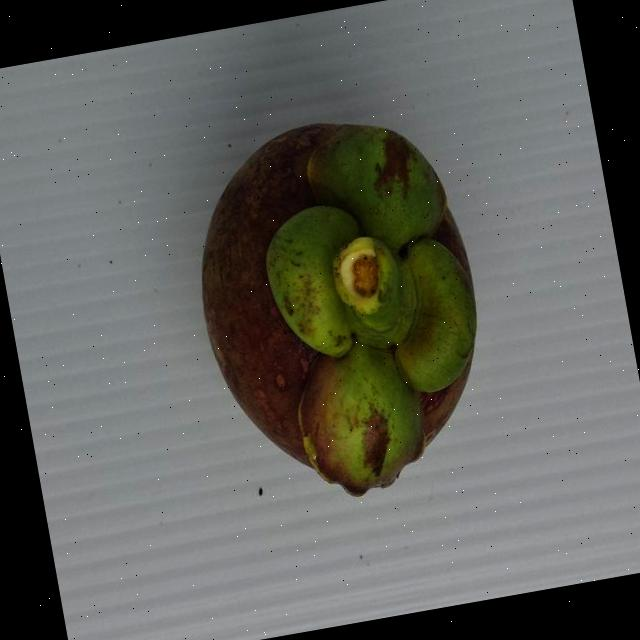mangosteen: (146, 56, 524, 536)
